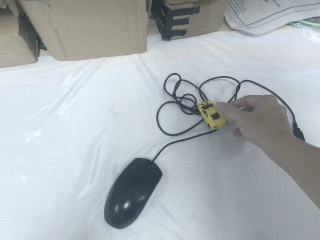box: (14, 1, 150, 64), (149, 1, 230, 42), (1, 3, 39, 71)
mouse: (102, 156, 164, 230)
toy_car: (198, 99, 228, 131)
